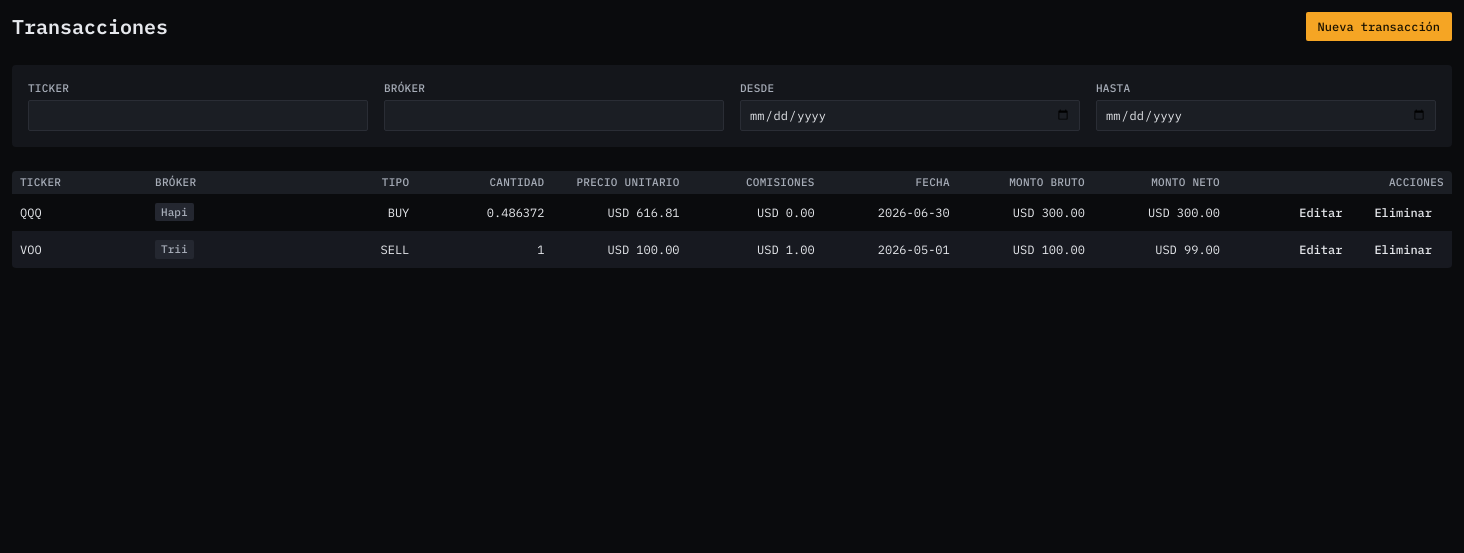
Test: editing a transaction › submits a valid edit, closes the form, and shows the updated row once the invalidated list refetches
The width and height of the screenshot is (1464, 553).
Click the button "Editar" in the row of "QQQ".
click(1321, 212)  # box x1=1287 y1=198 x2=1354 y2=227
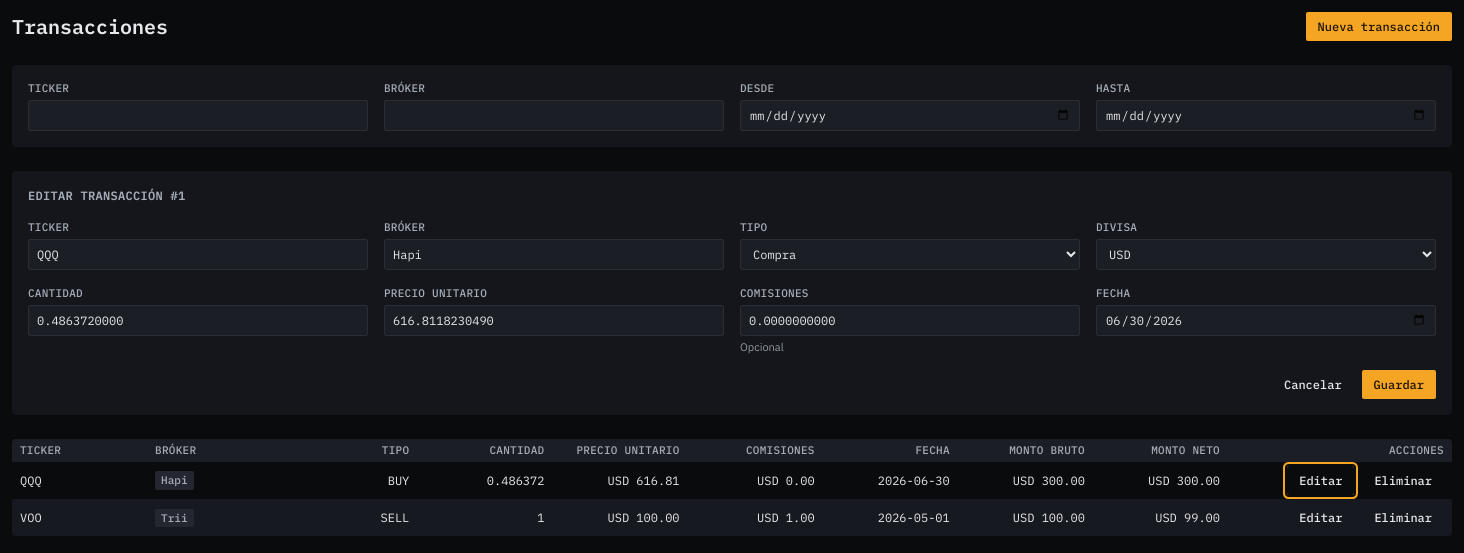
Replace the text in the field labelled "Cantidad" with "0.5000000000" at (198, 320), box x1=28 y1=304 x2=368 y2=336
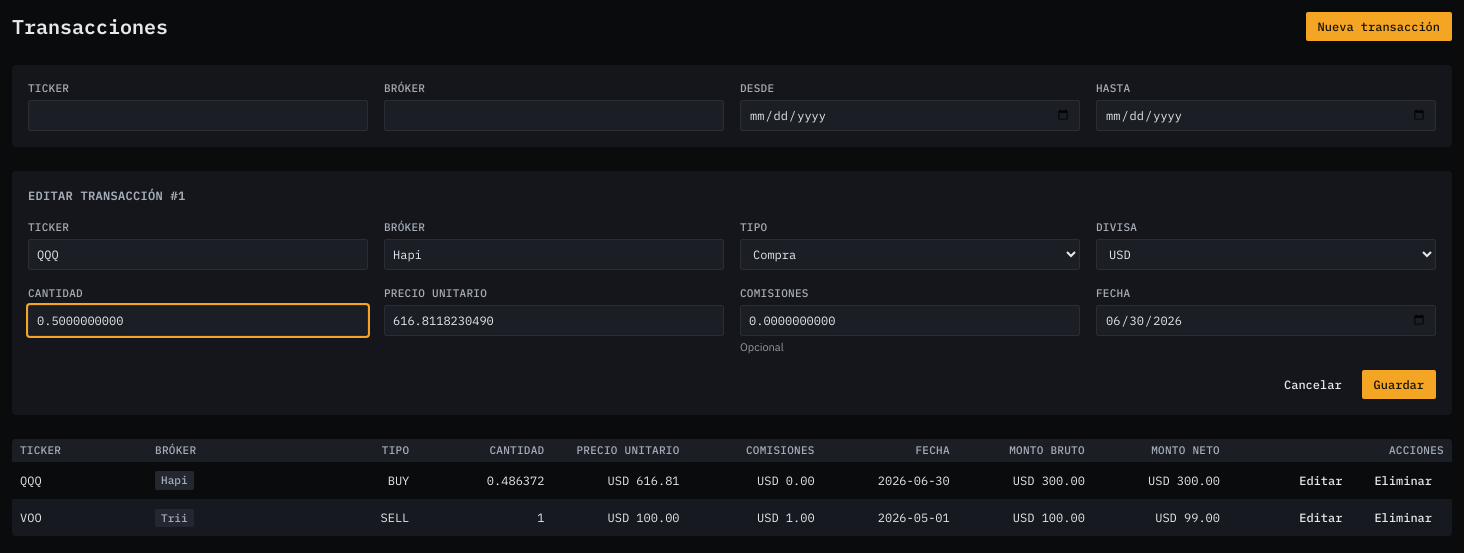
Click the button "Guardar".
click(1399, 385)  # box x1=1362 y1=370 x2=1436 y2=399
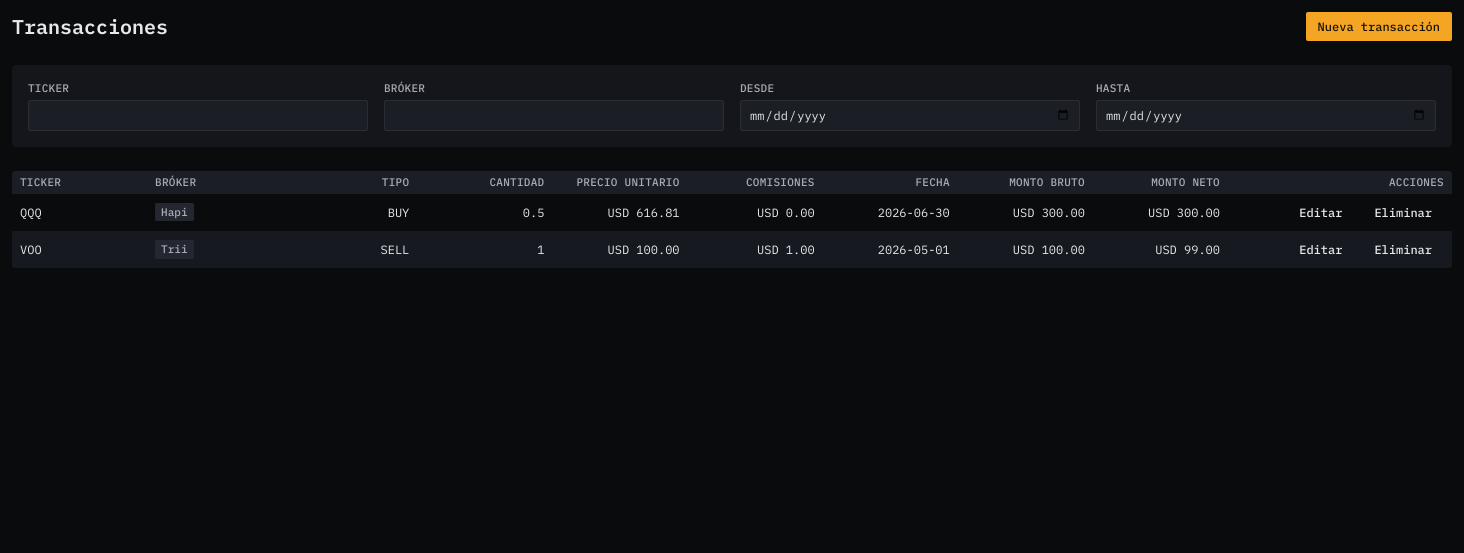
Expected: the cell "QQQ" is shown, x1=12 y1=194 x2=147 y2=231
Expected: the element with test id "transaction-form" is gone
Expected: the text "0.5" is shown, x1=417 y1=194 x2=552 y2=231
